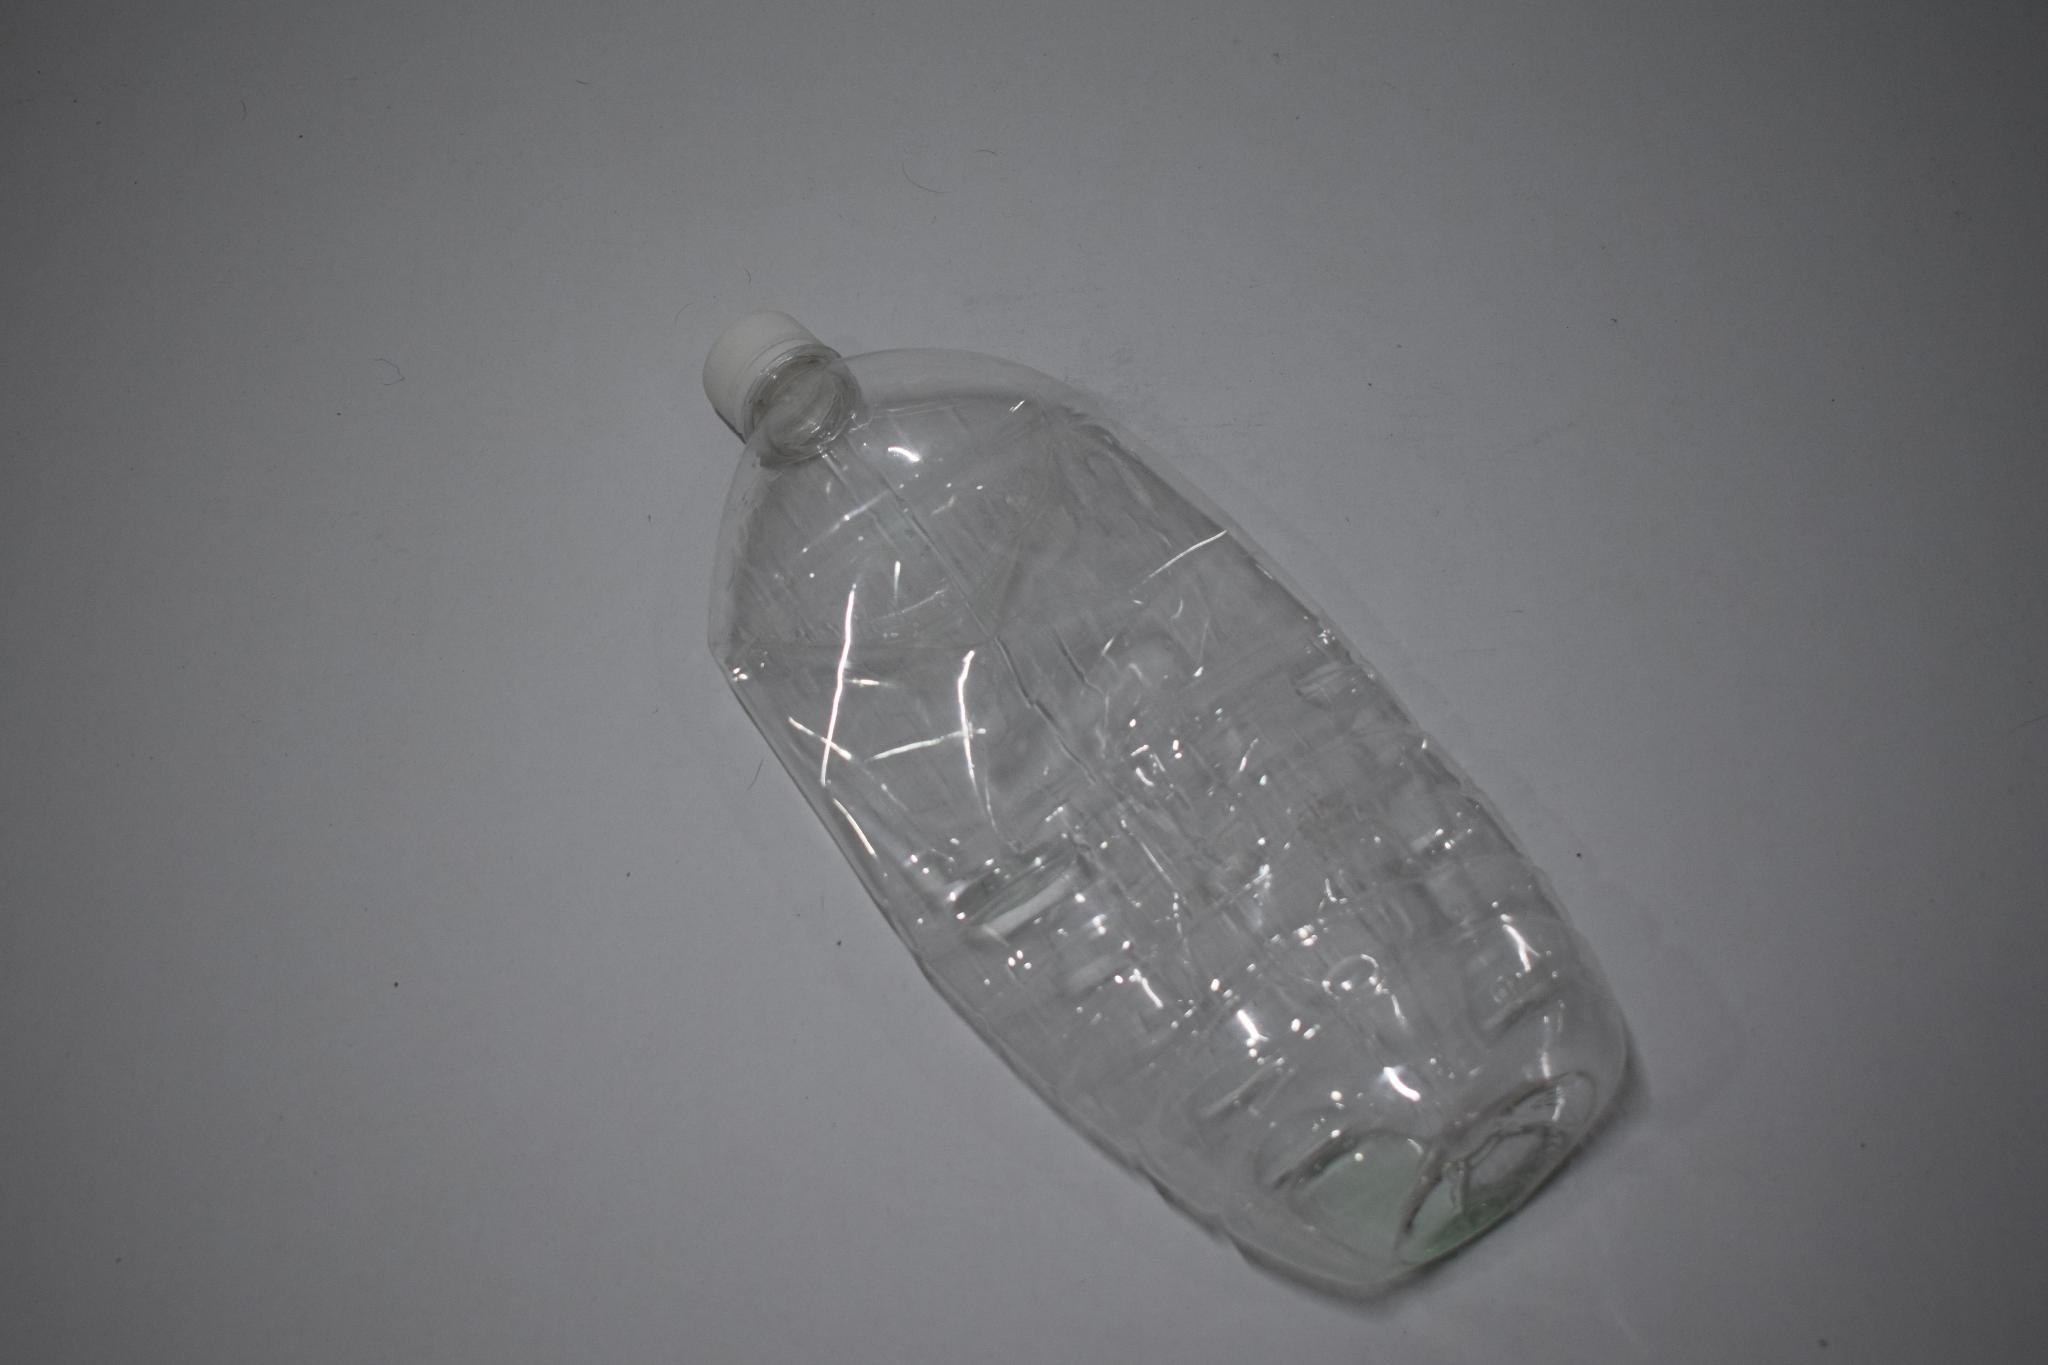bottle: (679, 302, 1670, 1290)
